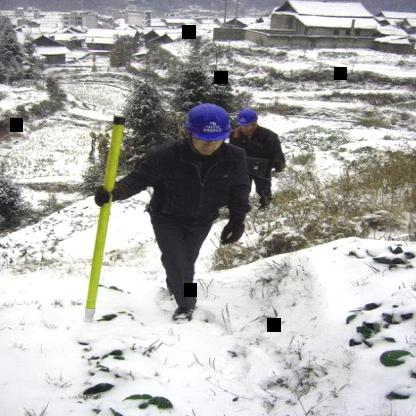helmet: (183, 105, 228, 156), (233, 106, 264, 136)
